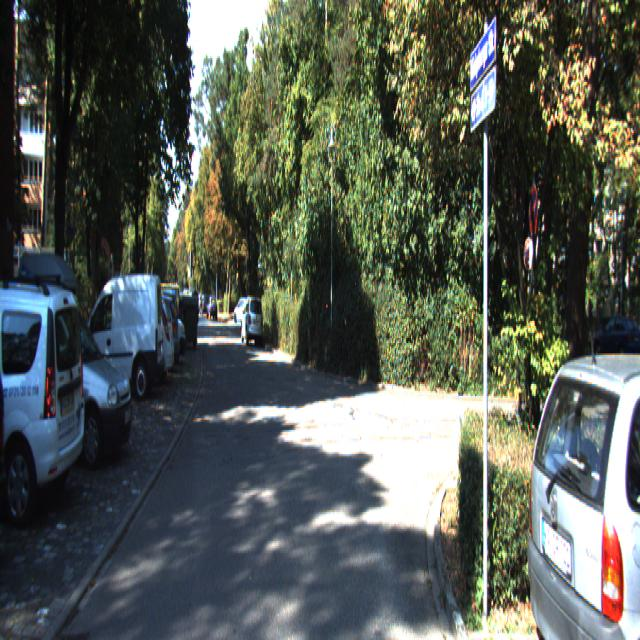Car: (518, 336, 640, 638), (0, 250, 136, 475), (0, 272, 90, 528), (67, 272, 164, 406), (93, 298, 174, 395), (240, 296, 264, 347)
